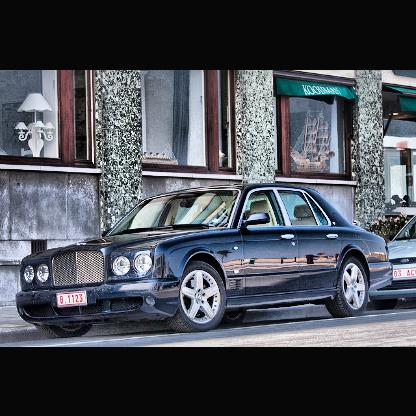Bentley Arnage Sedan 2009: (17, 187, 394, 328)
